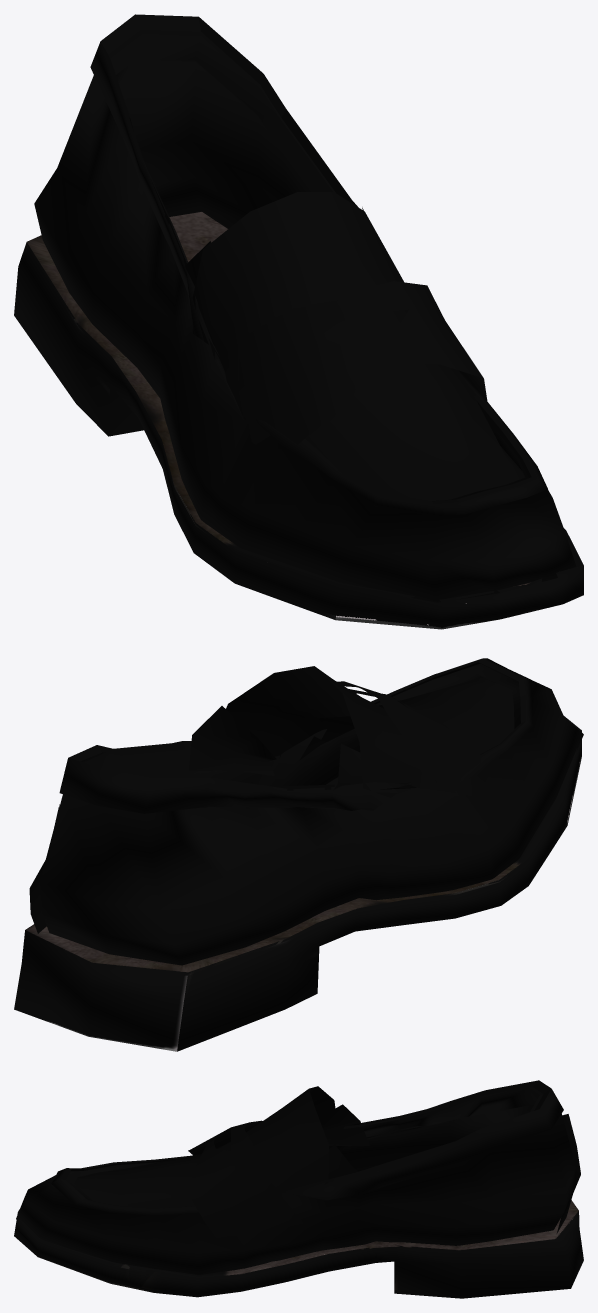
The model's file is Shoes-naylalabs_vers_05.gltf.
The picture shows the model from 3 angles, top to bottom: view 1: azimuth 30°, elevation 25°; view 2: azimuth 150°, elevation 25°; view 3: azimuth 270°, elevation 25°; orthographic projection. The views are drawn at different scales.
Parts seen in each view (by area): view 1: body, tongue, sole, band; view 2: body, sole, tongue, band, rubberleft, rubberright, backfigure; view 3: body, sole, tongue, band, rubberright, backfigure, rubberleft.
Part boxes in pixels (x1=…): body: x1=34, y1=14, x2=576, y2=602; tongue: x1=192, y1=192, x2=525, y2=501; sole: x1=14, y1=212, x2=583, y2=629; band: x1=225, y1=281, x2=487, y2=444; body: x1=40, y1=658, x2=583, y2=965; sole: x1=14, y1=716, x2=581, y2=1051; tongue: x1=226, y1=666, x2=514, y2=797; band: x1=337, y1=681, x2=480, y2=795; rubberleft: x1=188, y1=706, x2=276, y2=775; rubberright: x1=333, y1=744, x2=362, y2=789; backfigure: x1=29, y1=804, x2=59, y2=933; body: x1=16, y1=1080, x2=575, y2=1274; sole: x1=14, y1=1200, x2=583, y2=1298; tongue: x1=74, y1=1086, x2=335, y2=1208; band: x1=187, y1=1120, x2=303, y2=1238; rubberright: x1=319, y1=1104, x2=369, y2=1145; backfigure: x1=556, y1=1114, x2=580, y2=1233; rubberleft: x1=328, y1=1144, x2=358, y2=1179.
Size of the model in its own units: 0.3658 by 0.3593 by 1.
2 materials, 1 textured.
